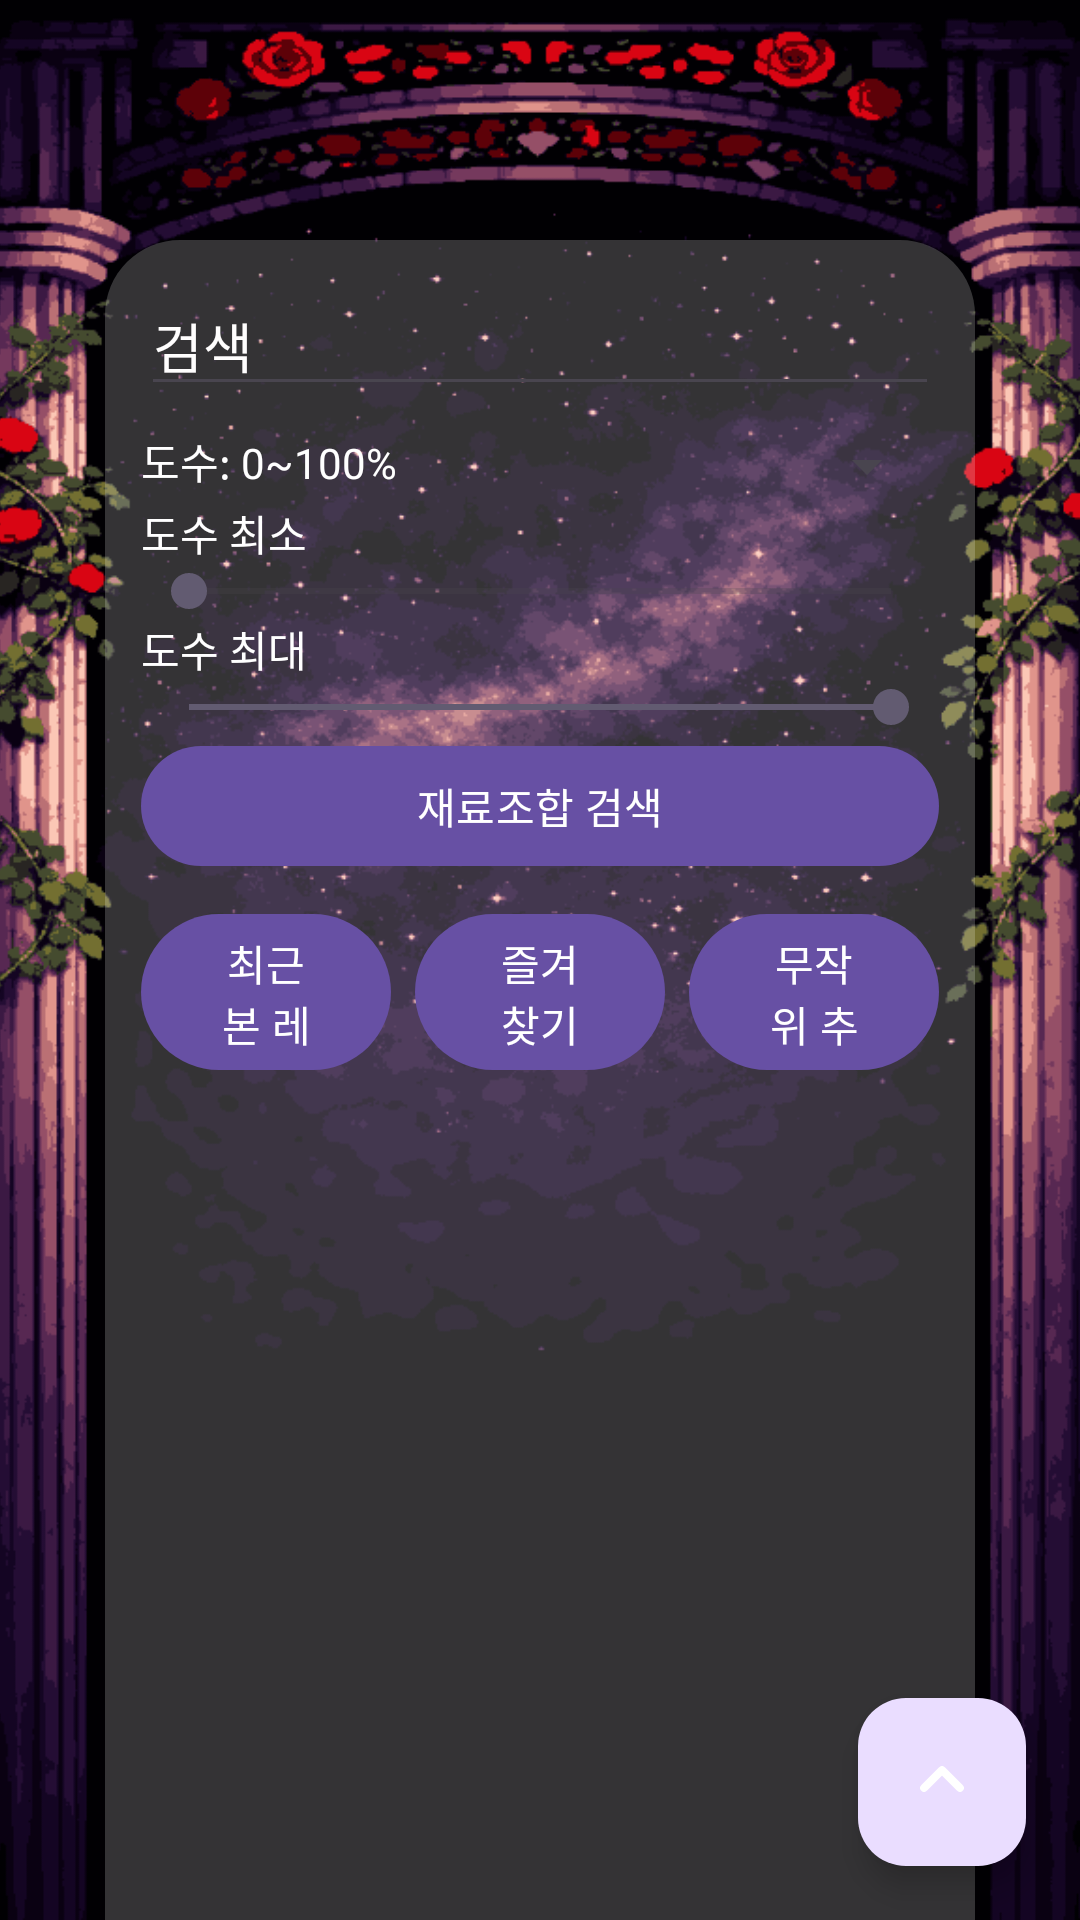

Icon click points for this 1080w x 1920h phone screenshot, format (x,y):
arrow up: (942,1782)
